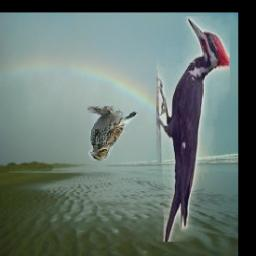Sparrow: (88, 107, 138, 161)
Woodpecker: (157, 16, 231, 242)
